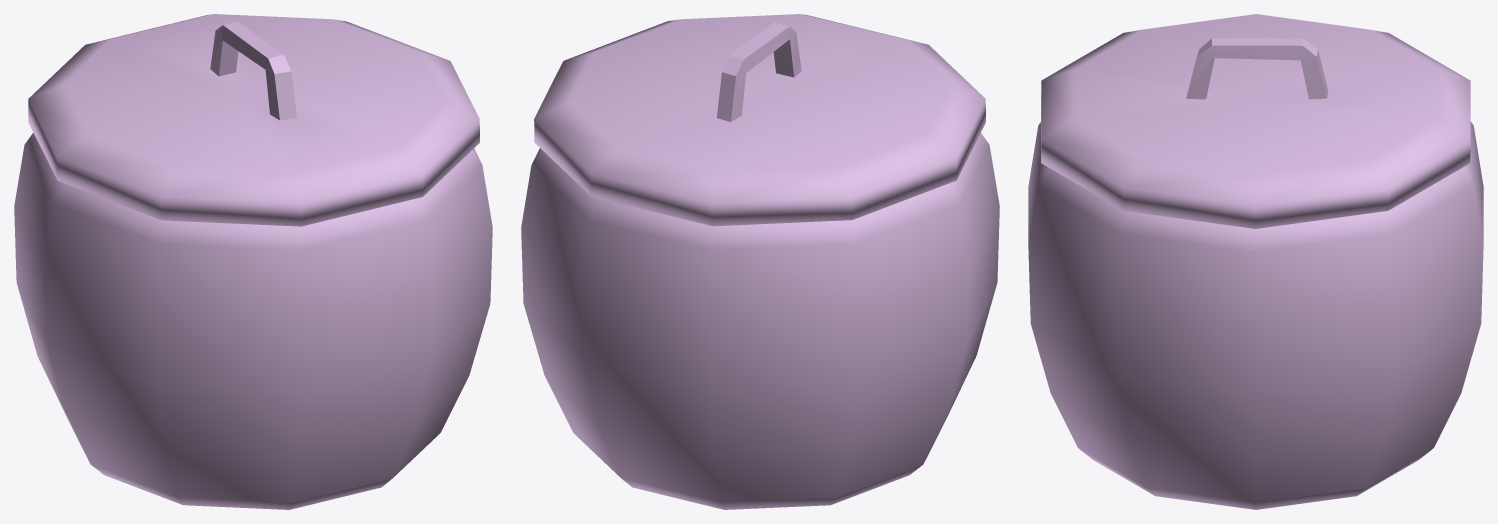
Rendered from garbage_can_05.fbx.
3 views of the same model, side by side, from view 1: azimuth 30°, elevation 25°; view 2: azimuth 150°, elevation 25°; view 3: azimuth 270°, elevation 25° (orthographic).
Parts seen in each view (by area): view 1: pCylinder32, polySurface32; view 2: pCylinder32, polySurface32; view 3: pCylinder32, polySurface32.
Boxes of the visible parts, x1,y1,x2,y2 form: pCylinder32: (14,133,492,509); polySurface32: (28,14,479,226); pCylinder32: (521,133,999,509); polySurface32: (534,14,985,226); pCylinder32: (1028,121,1483,509); polySurface32: (1041,14,1470,228).
Bounding box in the file's own units: 141 × 131 × 134.
